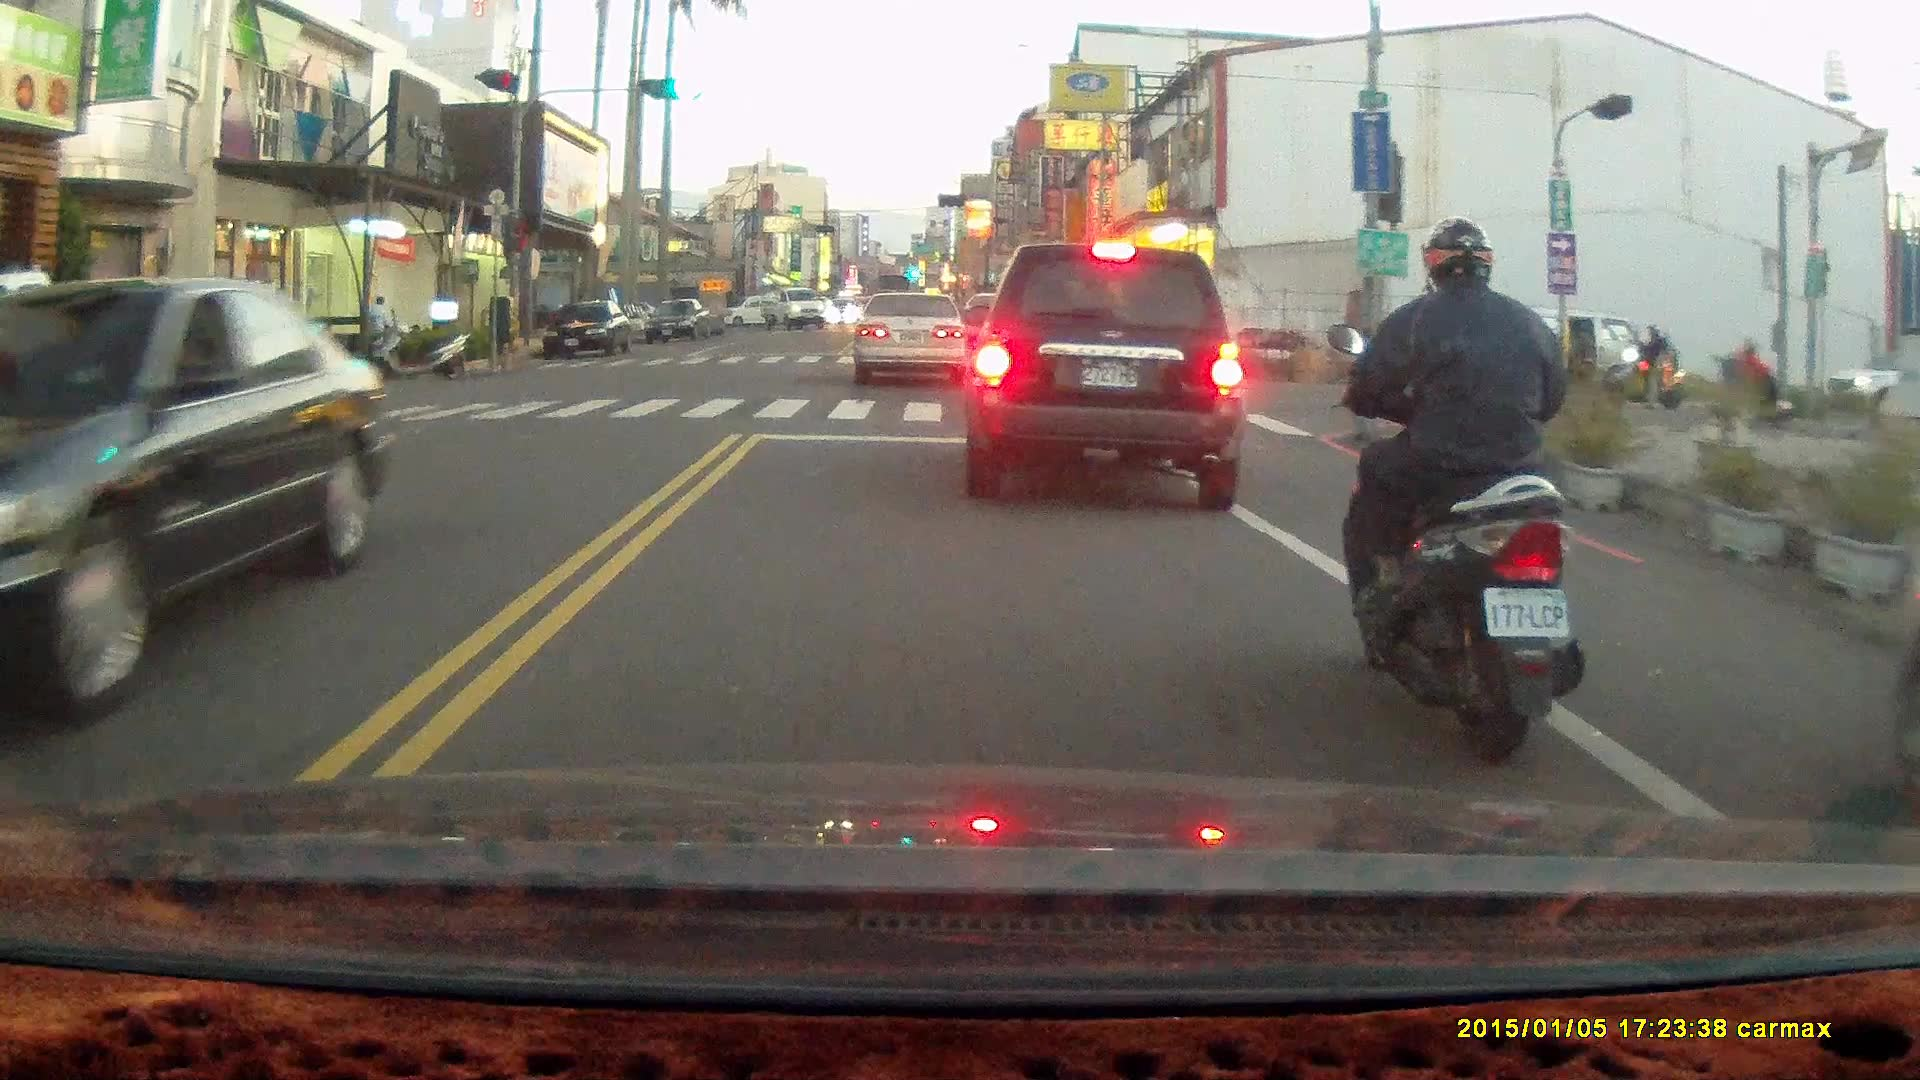pedestrian: (364, 292, 394, 361), (1571, 319, 1594, 388)
rider: (1325, 213, 1588, 762), (1710, 335, 1795, 431), (1612, 317, 1682, 407)
vehicle: (1, 275, 400, 746), (966, 237, 1246, 510), (857, 291, 970, 388), (543, 299, 638, 355), (643, 297, 711, 346)
